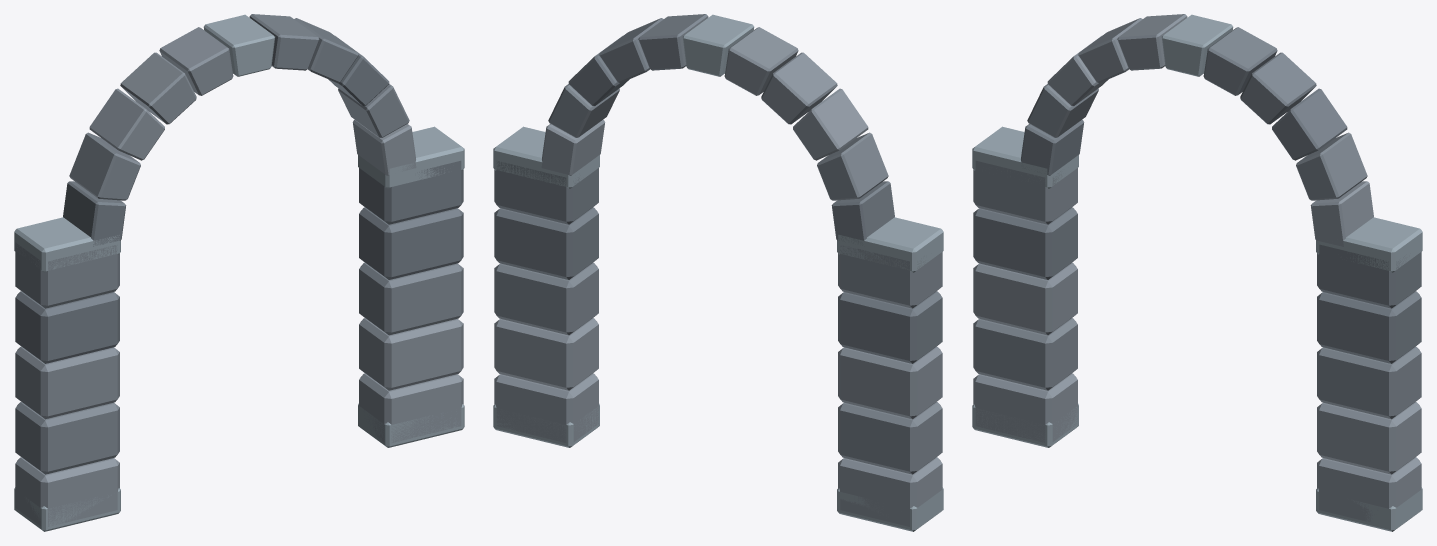
Rendered from MOD_05_Archway.glb.
3 renders of one model, left to right at view 1: azimuth 30°, elevation 25°; view 2: azimuth 150°, elevation 25°; view 3: azimuth 330°, elevation 25°, orthographic.
Visible parts, largest first — view 1: MOD_05_Archway; view 2: MOD_05_Archway; view 3: MOD_05_Archway.
Part boxes in pixels (x1,y1,x2,y2): MOD_05_Archway: [14, 14, 464, 531]; MOD_05_Archway: [493, 14, 943, 531]; MOD_05_Archway: [972, 14, 1422, 531].
Size of the model in its own units: 4 by 3.99 by 0.5.
